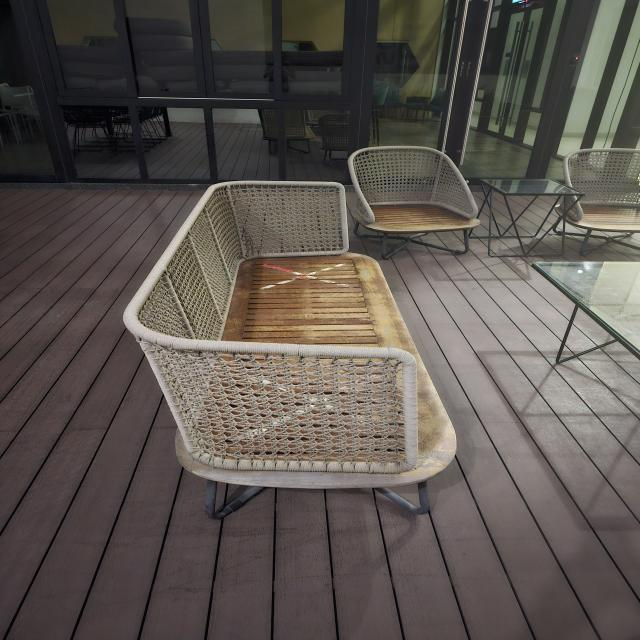obstacle: (115, 170, 474, 543), (344, 144, 483, 262), (528, 259, 639, 368), (550, 146, 638, 258), (476, 176, 587, 259)
